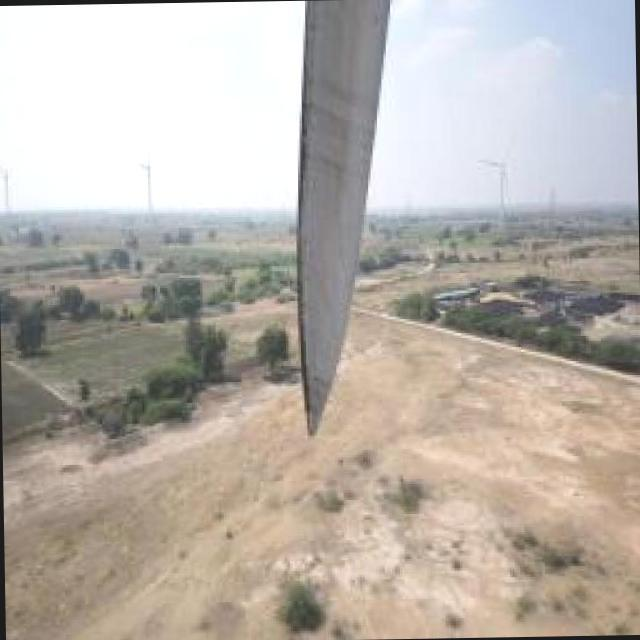Dirt: (301, 1, 389, 336)
Oil LEAKAGE: (295, 93, 313, 415)
